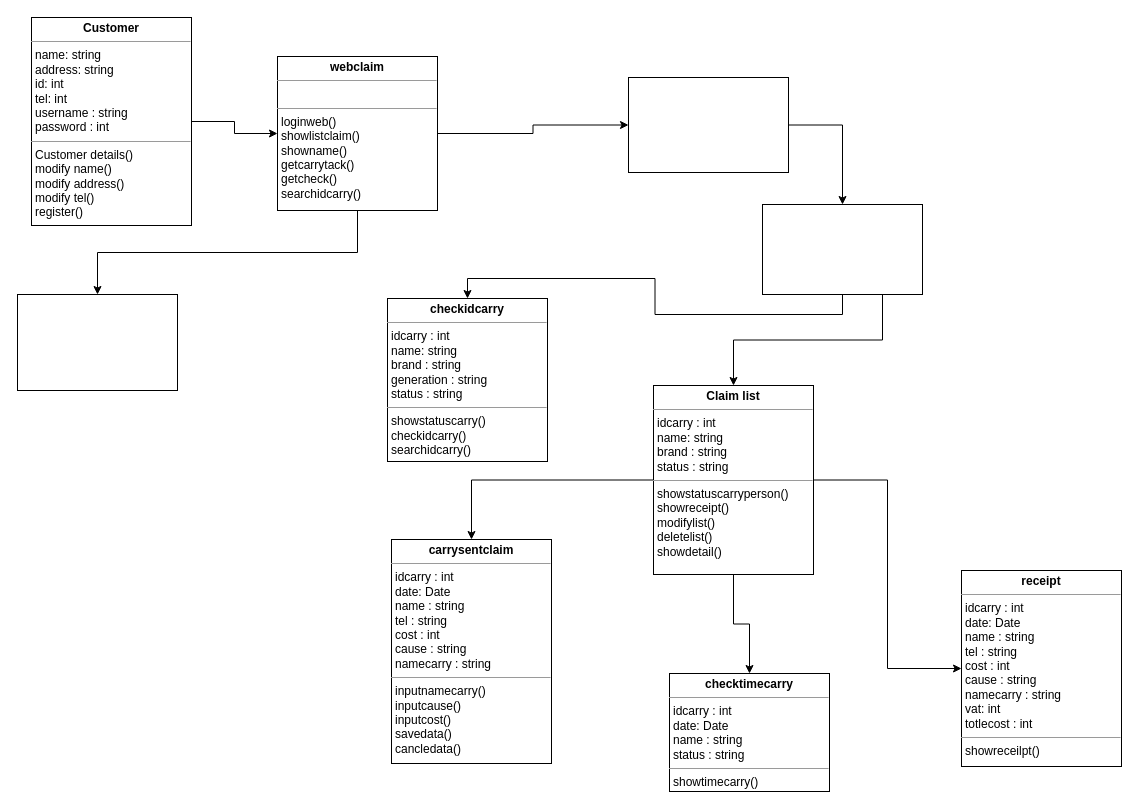
The diagram is 1139 pixels wide and 809 high, and some of its shapes have lost their labels. The shapes that lost their labels are listed below. From the top down, each one's centre as x and y in pixels, then its label:
the point at 708,124: login username : string password : int loginicare()
the point at 842,249: checkstatuscarry showstatuscarry()
the point at 97,342: Contact us namecompany : string showmap() shownamecompany()
